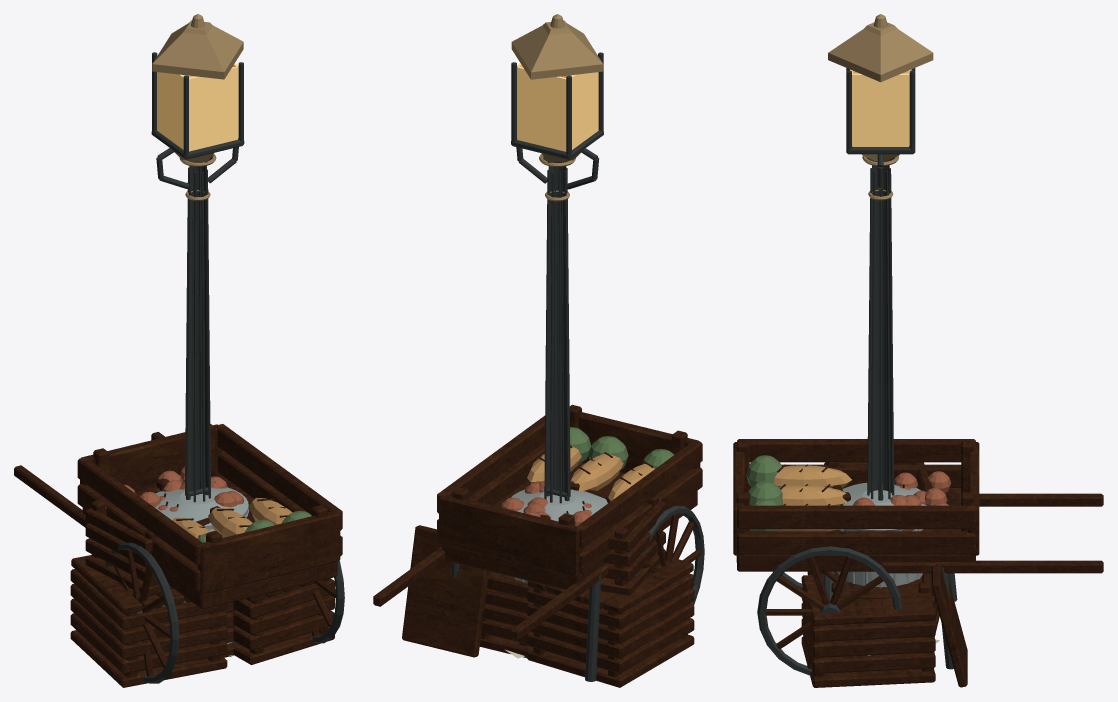
File: street-life-props-v1.glb
The picture shows the model from 3 angles, left to right: view 1: azimuth 30°, elevation 25°; view 2: azimuth 150°, elevation 25°; view 3: azimuth 270°, elevation 25°; orthographic projection.
Parts seen in each view (by area): view 1: Street_MarketBarrow_weathered walnut, Street_CrateStack_weathered walnut, Street_GasLamp_blackened iron, Street_GasLamp_warm lantern glass, Street_GasLamp_aged brass, Street_MarketBarrow_blackened iron, Street_MarketBarrow_golden loaves, Street_Dustbin_galvanised zinc, Street_MarketBarrow_russet fruit; view 2: Street_MarketBarrow_weathered walnut, Street_CrateStack_weathered walnut, Street_GasLamp_blackened iron, Street_GasLamp_warm lantern glass, Street_GasLamp_aged brass, Street_AshBox_weathered walnut, Street_MarketBarrow_golden loaves, Street_MarketBarrow_blackened iron, Street_MarketBarrow_sage foliage and bottle glass, Street_Dustbin_galvanised zinc, Street_MarketBarrow_russet fruit; view 3: Street_MarketBarrow_weathered walnut, Street_CrateStack_weathered walnut, Street_GasLamp_blackened iron, Street_GasLamp_aged brass, Street_GasLamp_warm lantern glass, Street_MarketBarrow_blackened iron, Street_MarketBarrow_golden loaves, Street_Dustbin_galvanised zinc, Street_MarketBarrow_russet fruit, Street_MarketBarrow_sage foliage and bottle glass, Street_AshBox_weathered walnut.
Boxes of the visible parts, x1,y1,x2,y2 form: Street_MarketBarrow_weathered walnut: [14, 424, 342, 676]; Street_CrateStack_weathered walnut: [70, 478, 334, 687]; Street_GasLamp_blackened iron: [151, 52, 244, 502]; Street_GasLamp_warm lantern glass: [157, 63, 238, 151]; Street_GasLamp_aged brass: [152, 14, 243, 201]; Street_MarketBarrow_blackened iron: [105, 542, 344, 683]; Street_MarketBarrow_golden loaves: [172, 498, 292, 538]; Street_Dustbin_galvanised zinc: [155, 487, 249, 644]; Street_MarketBarrow_russet fruit: [124, 466, 244, 511]; Street_MarketBarrow_weathered walnut: [373, 404, 702, 640]; Street_CrateStack_weathered walnut: [402, 481, 694, 687]; Street_GasLamp_blackened iron: [511, 52, 603, 503]; Street_GasLamp_warm lantern glass: [517, 63, 598, 151]; Street_GasLamp_aged brass: [511, 14, 603, 201]; Street_AshBox_weathered walnut: [479, 571, 603, 662]; Street_MarketBarrow_golden loaves: [527, 446, 654, 500]; Street_MarketBarrow_blackened iron: [451, 505, 704, 681]; Street_MarketBarrow_sage foliage and bottle glass: [570, 427, 674, 469]; Street_Dustbin_galvanised zinc: [511, 489, 607, 646]; Street_MarketBarrow_russet fruit: [500, 481, 592, 525]; Street_MarketBarrow_weathered walnut: [733, 439, 1103, 669]; Street_CrateStack_weathered walnut: [801, 462, 967, 687]; Street_GasLamp_blackened iron: [846, 68, 915, 500]; Street_GasLamp_aged brass: [828, 14, 933, 200]; Street_GasLamp_warm lantern glass: [850, 69, 911, 146]; Street_MarketBarrow_blackened iron: [757, 546, 957, 675]; Street_MarketBarrow_golden loaves: [773, 465, 851, 531]; Street_Dustbin_galvanised zinc: [837, 482, 926, 587]; Street_MarketBarrow_russet fruit: [852, 471, 950, 531]; Street_MarketBarrow_sage foliage and bottle glass: [746, 455, 782, 531]; Street_AshBox_weathered walnut: [822, 571, 931, 657].
Size of the model in its own units: 1.24 by 3.4 by 1.83.
9 materials, 1 textured.
